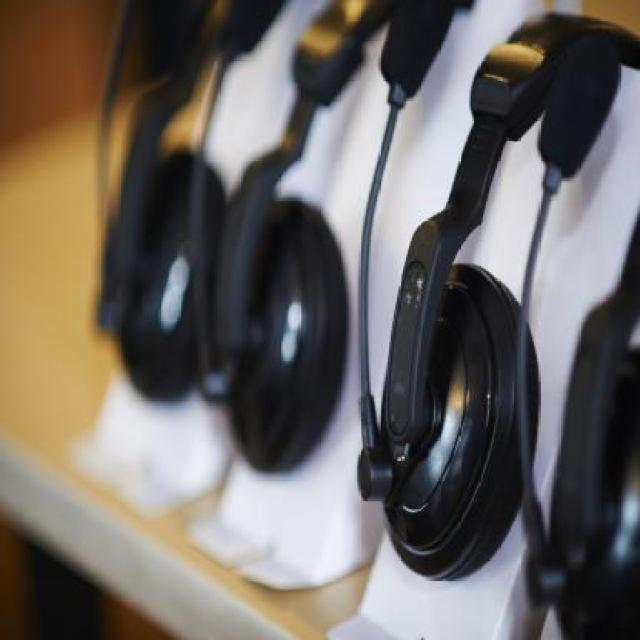earphone: (387, 12, 635, 595), (235, 2, 373, 503), (78, 18, 227, 442)
